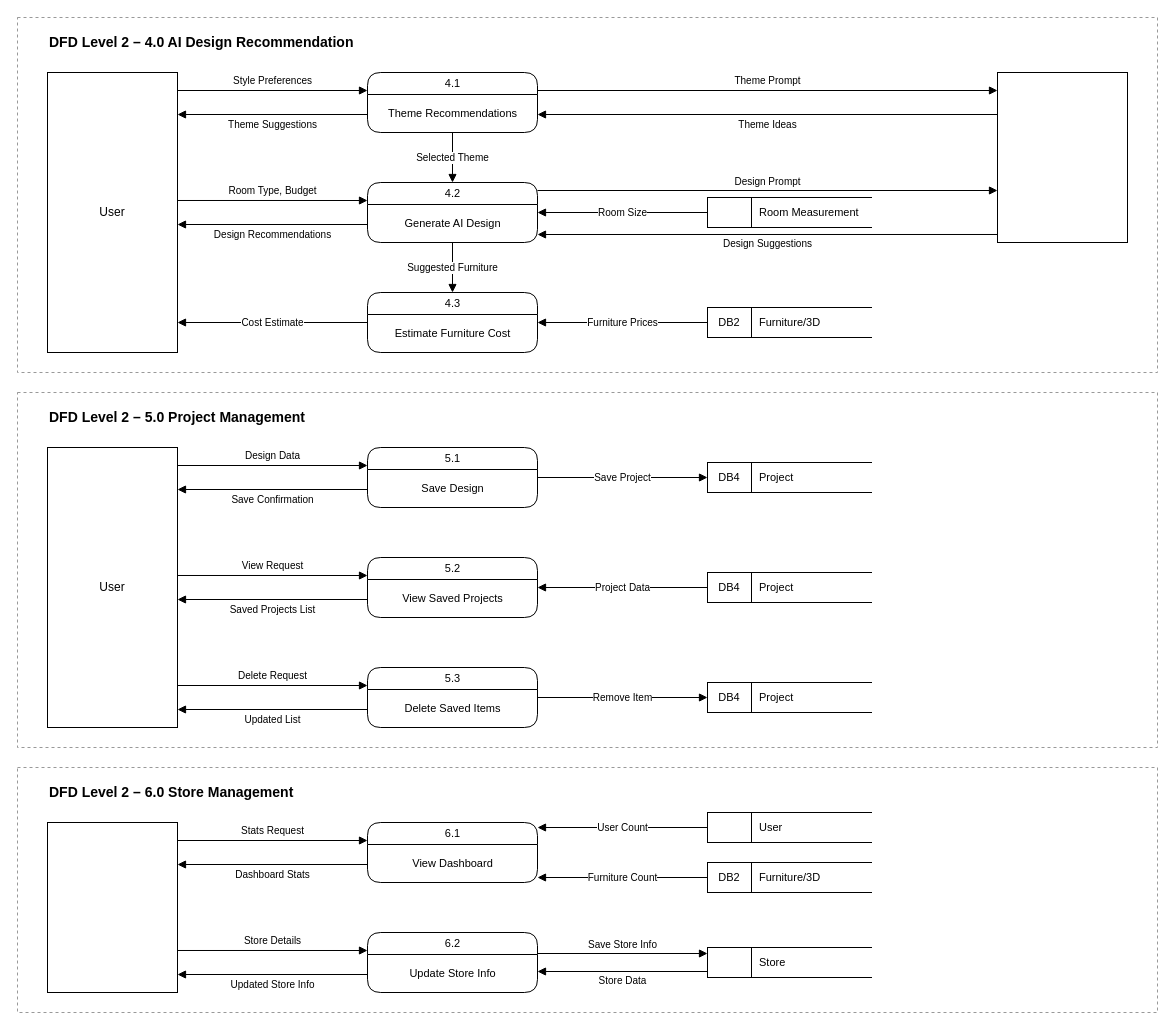
Some shapes in this 1175 by 1030 pixel diagram are drawn without their labels. The shapes that lost their labels are listed below. From the top down, each one's centre as x and y in pixels, then its label:
point (1062, 157): AI Services
point (729, 212): DB3
point (729, 827): DB1
point (112, 907): Admin
point (729, 962): DB5
